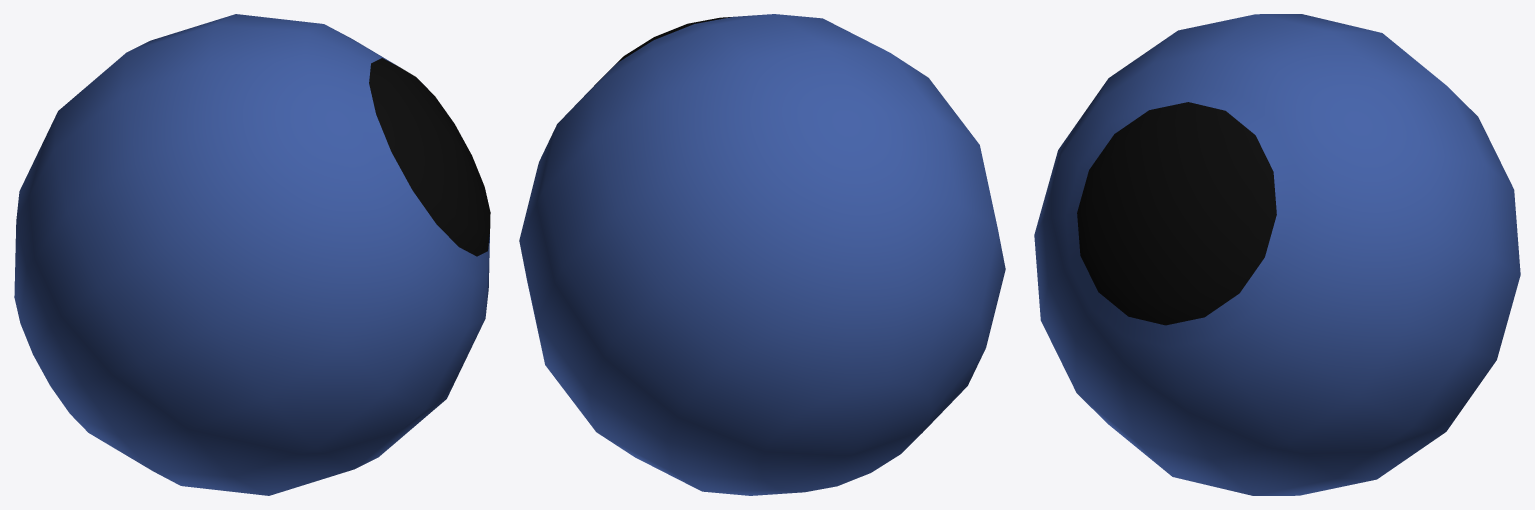
File: axolotl_eye.obj
3 views of the same model, side by side, from view 1: azimuth 30°, elevation 25°; view 2: azimuth 150°, elevation 25°; view 3: azimuth 270°, elevation 25° (orthographic).
Visible parts, largest first — view 1: eye; view 2: eye; view 3: eye.
Part boxes in pixels (x1,y1,x2,y2): eye: [14, 14, 490, 495]; eye: [519, 14, 1005, 495]; eye: [1034, 14, 1520, 495].
Size of the model in its own units: 0.00671 by 0.00657 by 0.00667.
